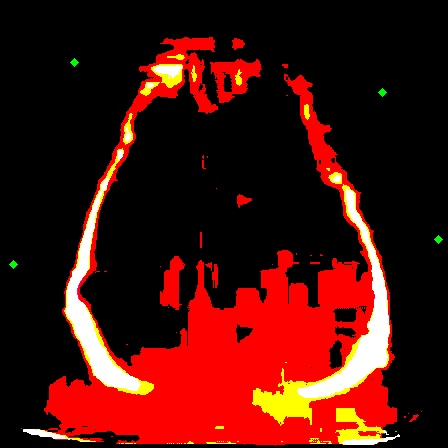coin_1: (74, 62, 94, 82)
coin_2: (13, 264, 33, 284)
coin_3: (382, 92, 402, 112)
coin_4: (438, 239, 448, 259)
